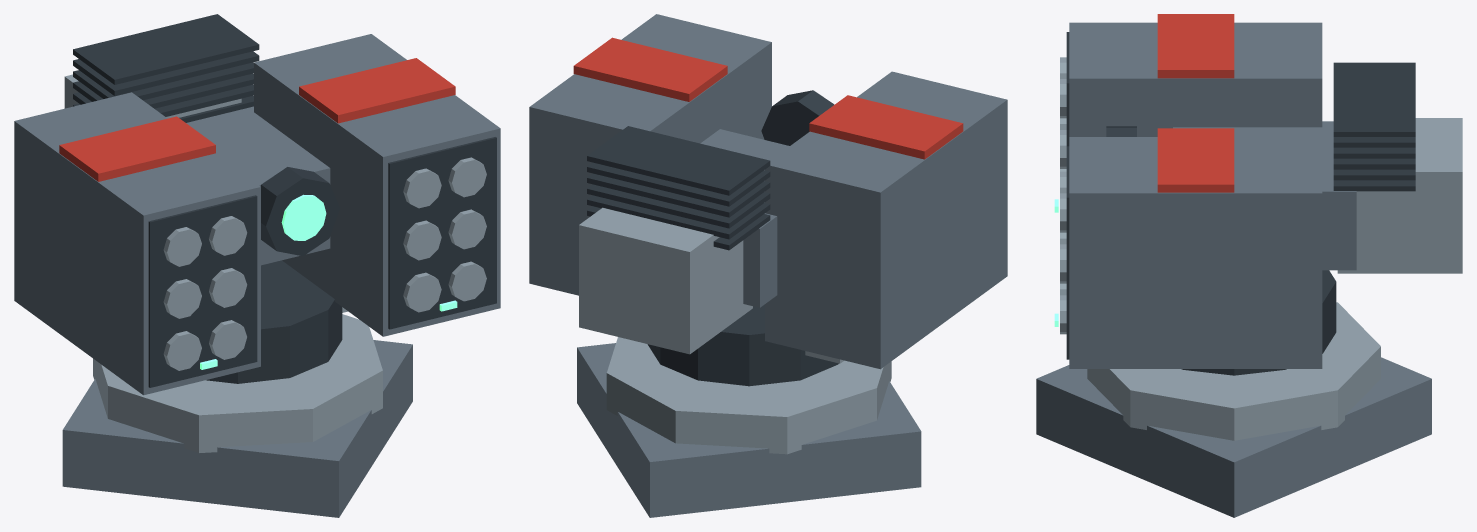
The model's file is quiver_t2.glb.
3 renders of one model, left to right at view 1: azimuth 30°, elevation 25°; view 2: azimuth 150°, elevation 25°; view 3: azimuth 270°, elevation 25°, orthographic. The views are drawn at different scales.
Visible parts, largest first — view 1: Launch pod (×2), Foundation, Recessed tube panel (×2), Base upper armor, Rear radiator (×6), Capped missile cell (×12), Pod identification (×2), Yaw bearing, Receiver, Tracking sensor, Sensor glass, Rear equipment; view 2: Launch pod (×2), Foundation, Base upper armor, Rear equipment, Rear radiator (×6), Pod identification (×2), Yaw bearing, Receiver, Tracking sensor; view 3: Launch pod (×2), Foundation, Base upper armor, Rear equipment, Rear radiator (×6), Pod identification (×2), Receiver, Yaw bearing, Recessed tube panel.
Boxes of the visible parts, box(x1,y1,x2,y2) form: Launch pod (×2): box(14, 34, 500, 395); Foundation: box(62, 340, 412, 517); Recessed tube panel (×2): box(148, 137, 496, 387); Base upper armor: box(93, 314, 382, 452); Rear radiator (×6): box(73, 14, 259, 122); Capped missile cell (×12): box(163, 157, 486, 370); Pod identification (×2): box(59, 58, 455, 181); Yaw bearing: box(206, 260, 342, 383); Receiver: box(186, 106, 330, 265); Tracking sensor: box(260, 167, 340, 256); Sensor glass: box(281, 194, 326, 240); Rear equipment: box(64, 74, 241, 118); Launch pod (×2): box(529, 14, 1007, 369); Foundation: box(577, 343, 921, 517); Base upper armor: box(606, 337, 891, 454); Rear equipment: box(579, 207, 752, 354); Rear radiator (×6): box(587, 126, 770, 250); Pod identification (×2): box(573, 37, 963, 159); Yaw bearing: box(647, 304, 838, 386); Receiver: box(700, 129, 789, 307); Tracking sensor: box(761, 90, 834, 145); Launch pod (×2): box(1069, 22, 1322, 368); Foundation: box(1036, 357, 1431, 517); Base upper armor: box(1087, 302, 1380, 440); Rear equipment: box(1337, 118, 1462, 273); Rear radiator (×6): box(1333, 62, 1415, 191); Pod identification (×2): box(1157, 14, 1234, 192); Receiver: box(1173, 121, 1356, 270); Yaw bearing: box(1181, 270, 1336, 375); Recessed tube panel: box(1066, 146, 1069, 359).
Size of the model in its own units: 1.58 by 1.46 by 1.67.
